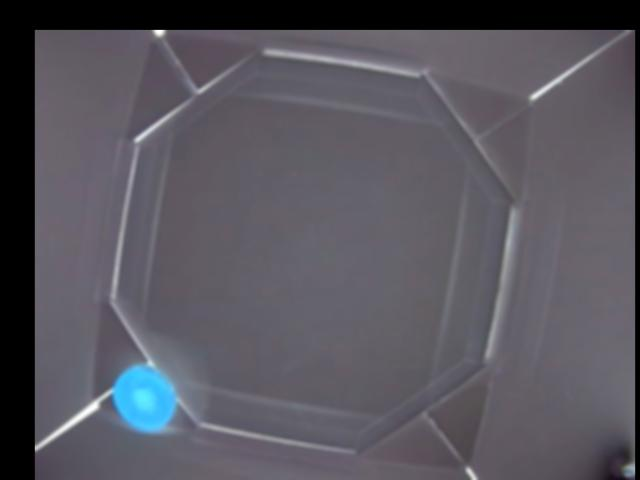Carrot: (111, 364, 176, 431)
